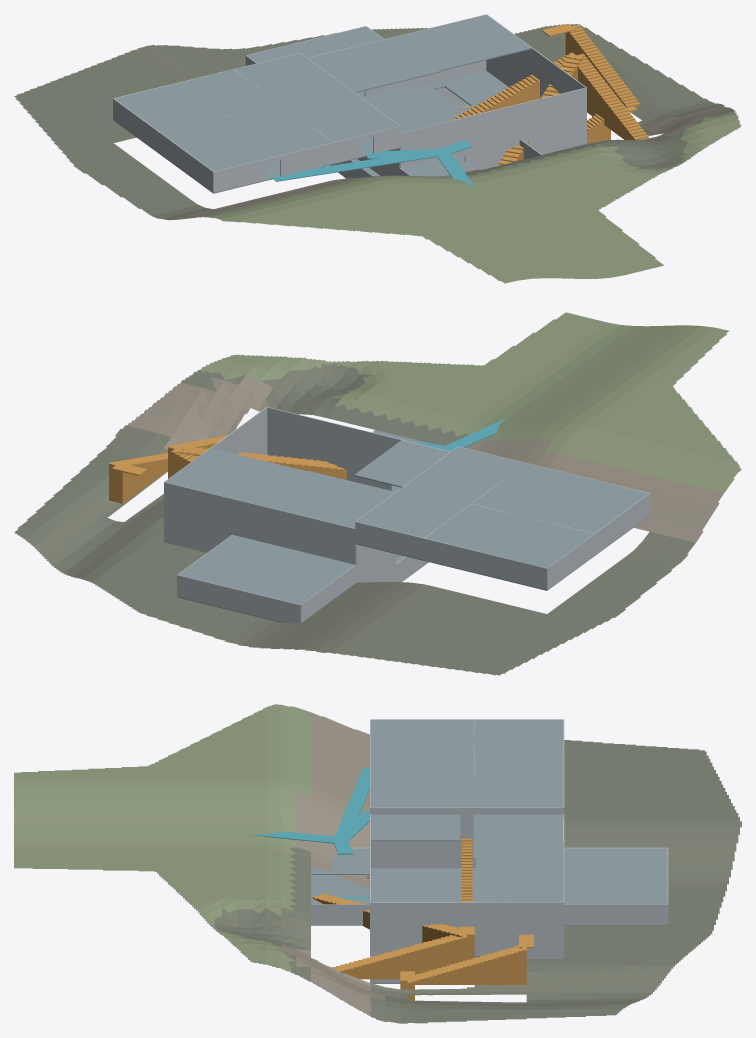
Rendered from terrain-assembly.glb.
3 views of the same model, one above another, from view 1: azimuth 30°, elevation 25°; view 2: azimuth 150°, elevation 25°; view 3: azimuth 270°, elevation 25° (orthographic). The views are drawn at different scales.
Parts seen in each view (by area): view 1: Saved editor macroterrain WLD-09, Ceiling cap west-stair, Ceiling cap control, Wall turbine S.001, Ceiling cap office, Ceiling cap turbine.006, Wall turbine E, Ceiling cap turbine.003, Ceiling cap turbine, Ceiling cap plant, Ceiling cap turbine.004, Wall turbine S (+11 smaller); view 2: Saved editor macroterrain WLD-09, Ceiling cap west-stair, Ceiling cap control, Ceiling cap plant, Wall turbine N.001, Ceiling cap office, Wall turbine S.001, Ceiling cap turbine.006, Wall office N, Wall plant N, Ceiling cap turbine, Ceiling cap turbine.003 (+8 smaller); view 3: Saved editor macroterrain WLD-09, Wall turbine E, Ceiling cap west-stair, Ceiling cap control, Ceiling cap plant, Ceiling cap office, Ceiling cap turbine.006, Wall turbine W, Ceiling cap turbine.003, Ceiling cap turbine, Wall plant E, Floor turbine.002 (+9 smaller).
Boxes of the visible parts, x1,y1,x2,y2 form: Saved editor macroterrain WLD-09: [14, 24, 741, 283]; Ceiling cap west-stair: [234, 53, 399, 142]; Ceiling cap control: [160, 103, 332, 171]; Wall turbine S.001: [464, 87, 586, 169]; Ceiling cap office: [115, 69, 278, 131]; Ceiling cap turbine.006: [394, 14, 531, 71]; Wall turbine E: [486, 14, 586, 98]; Ceiling cap turbine.003: [362, 86, 454, 132]; Ceiling cap turbine: [308, 46, 400, 91]; Ceiling cap plant: [246, 26, 382, 63]; Ceiling cap turbine.004: [355, 37, 438, 79]; Wall turbine S: [400, 120, 455, 168]; Saved editor macroterrain WLD-09: [14, 312, 741, 675]; Ceiling cap west-stair: [356, 446, 526, 537]; Ceiling cap control: [472, 463, 648, 533]; Ceiling cap plant: [178, 535, 354, 604]; Wall turbine N.001: [164, 482, 288, 550]; Ceiling cap office: [425, 504, 593, 567]; Wall turbine S.001: [267, 407, 391, 490]; Ceiling cap turbine.006: [165, 448, 306, 505]; Wall office N: [424, 538, 547, 589]; Wall plant N: [177, 575, 300, 623]; Ceiling cap turbine: [300, 481, 394, 528]; Ceiling cap turbine.003: [355, 440, 449, 485]; Saved editor macroterrain WLD-09: [14, 704, 741, 1023]; Wall turbine E: [370, 902, 563, 956]; Ceiling cap west-stair: [370, 776, 563, 807]; Ceiling cap control: [370, 719, 474, 776]; Ceiling cap plant: [564, 848, 667, 904]; Ceiling cap office: [474, 719, 563, 776]; Ceiling cap turbine.006: [475, 858, 563, 902]; Wall turbine W: [371, 814, 475, 868]; Ceiling cap turbine.003: [370, 814, 458, 841]; Ceiling cap turbine: [475, 814, 563, 840]; Wall plant E: [564, 904, 667, 924]; Floor turbine.002: [416, 868, 475, 901].
Size of the model in its own units: 85 by 13.16 by 98.
24 materials, 17 textured.
